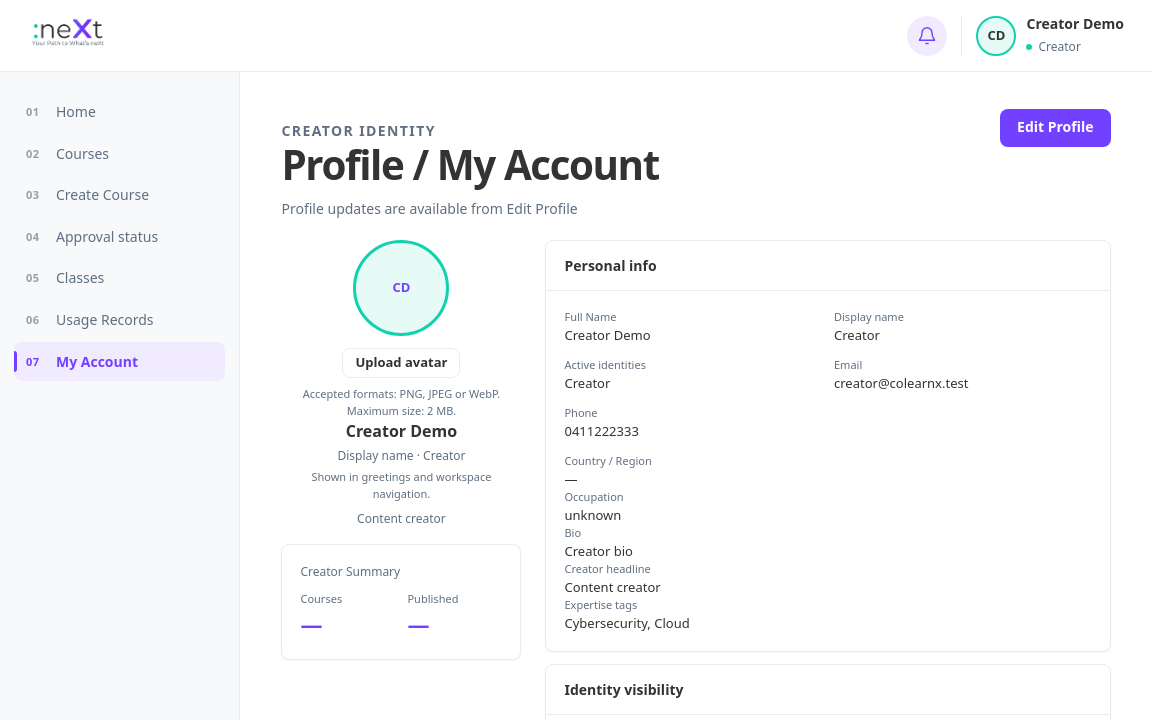
Trainer and Creator My Account › shows a creator profile with role fields in Edit Profile
Check: the heading "Profile / My Account" is shown, box [282, 142, 659, 187]
Check: the text "creator@colearnx.test" is shown, box [834, 374, 968, 392]
Click the button "Edit Profile". click: {"x": 1055, "y": 128}
box: [1000, 109, 1111, 147]
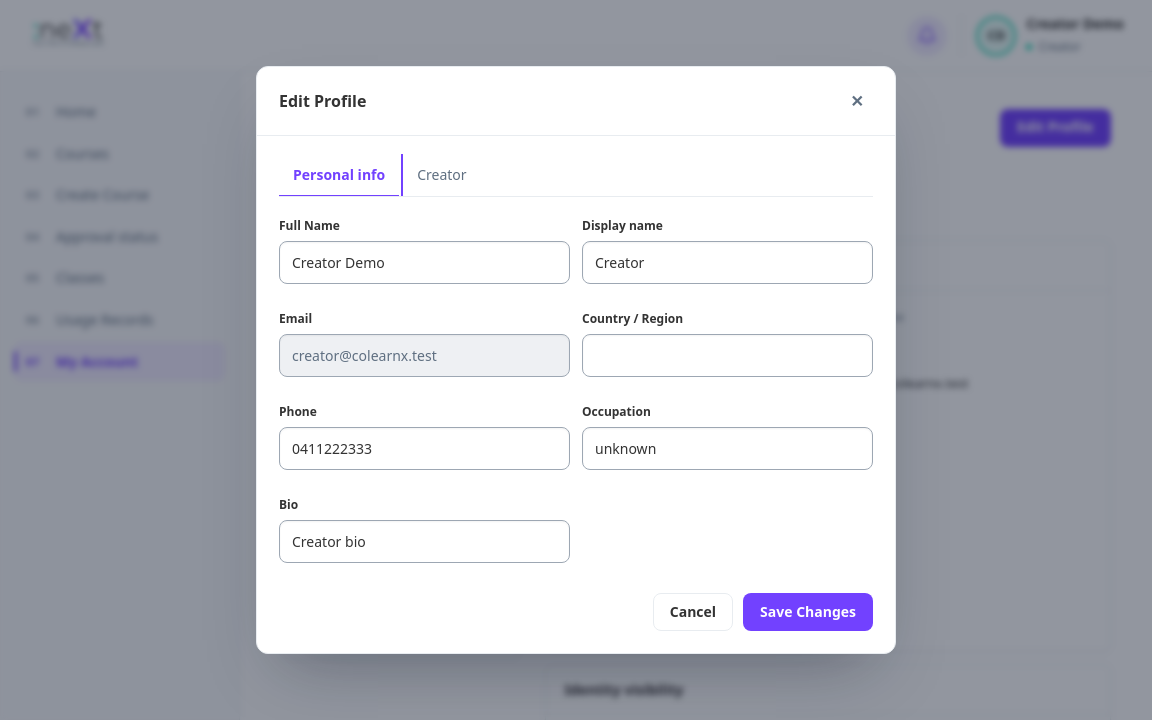
Click the tab "Creator". click: {"x": 442, "y": 176}
box: [403, 154, 481, 197]
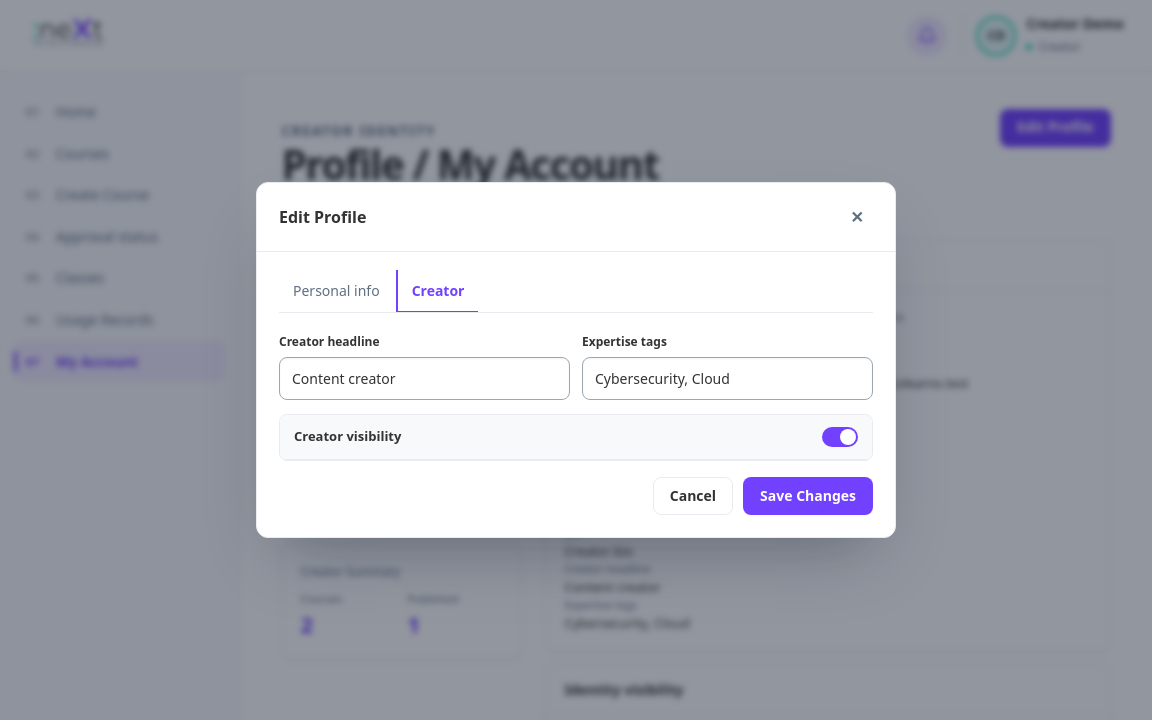
Check: the button "Save Changes" is shown, box [743, 477, 873, 515]
Check: the field labelled "Creator headline" is shown, box [279, 357, 570, 400]
Check: the field labelled "Expertise tags" is shown, box [582, 357, 873, 400]
